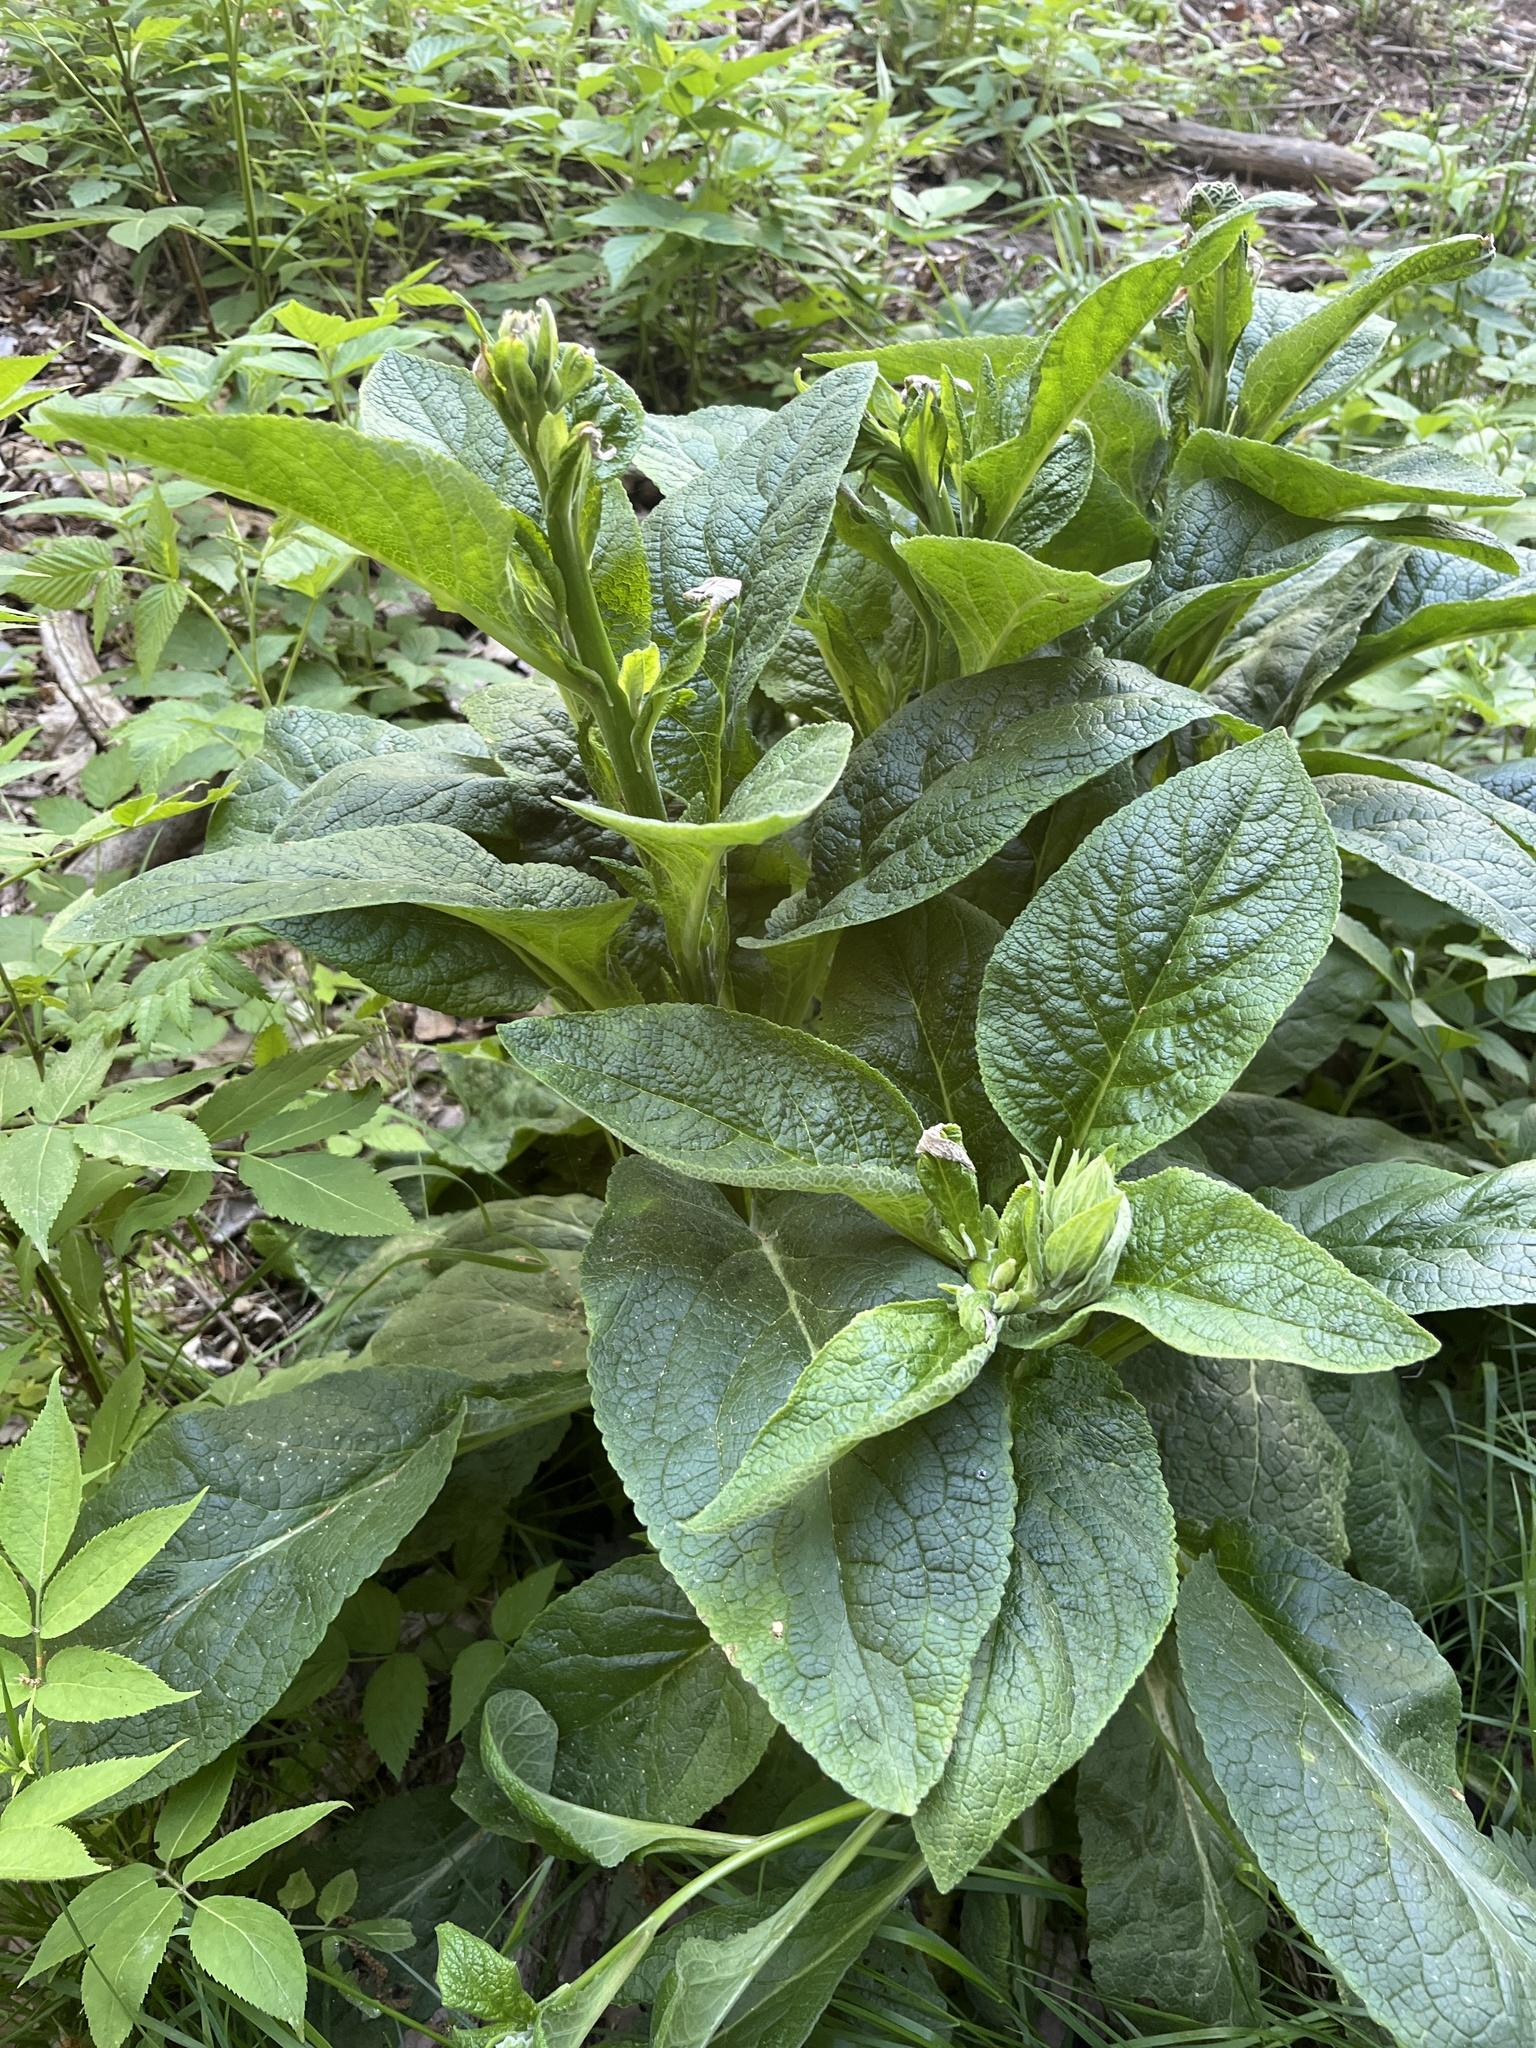Digitalis L: (73, 232, 1521, 1937)
